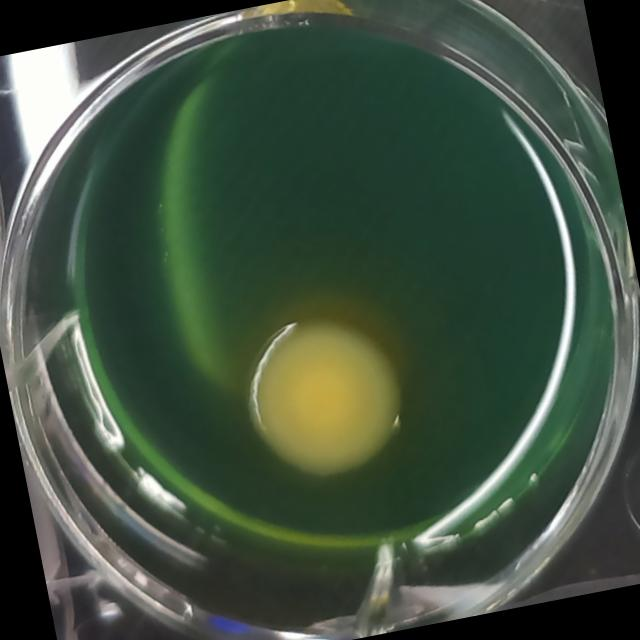vibrio: (212, 287, 440, 515)
